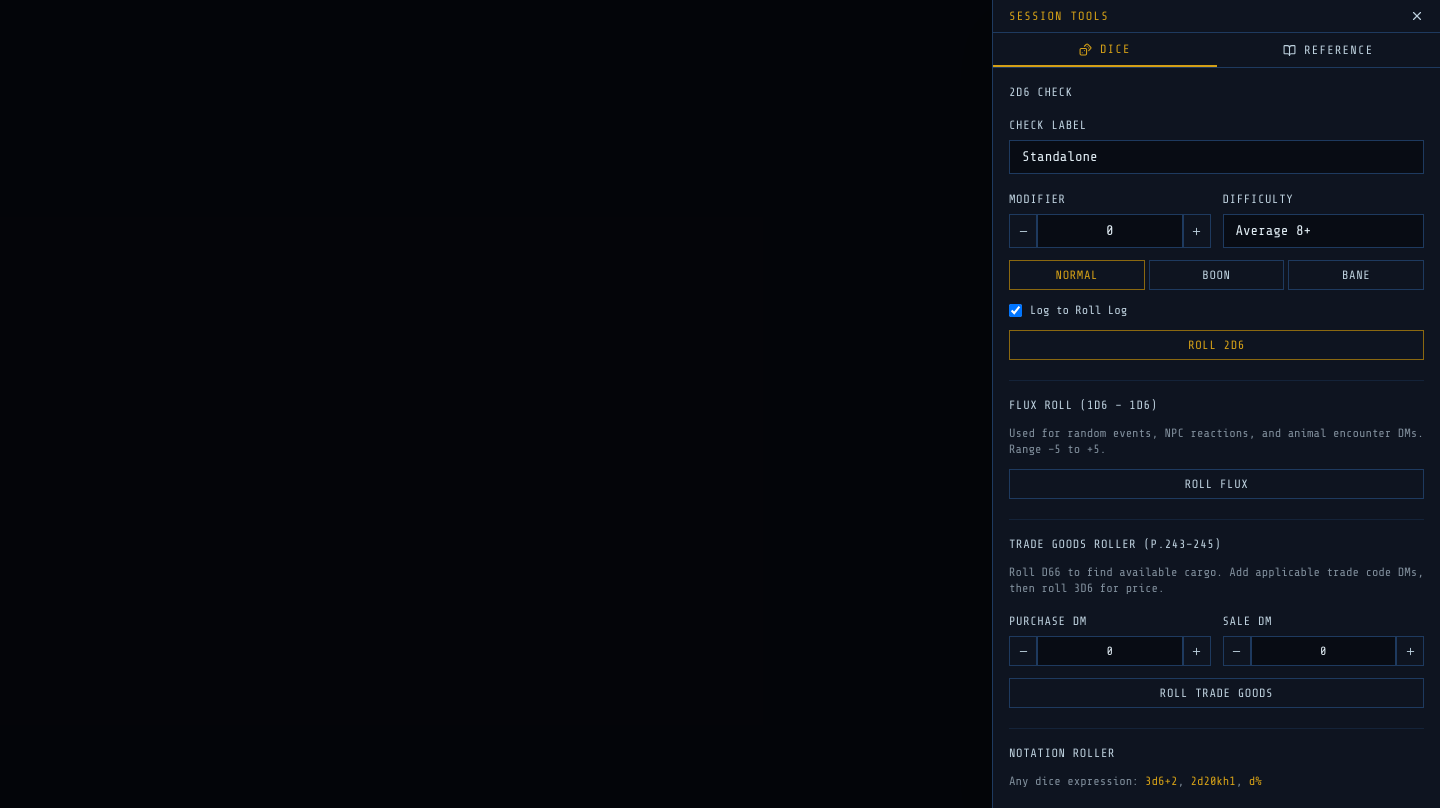
Test: GlobalToolsDrawer › adjusts the standalone check modifier with mouse controls
The image size is (1440, 808).
Expected: the text "MODIFIER" is shown, [1009,192,1066,206]
Expected: the element named "Standalone Modifier" below "MODIFIER" is shown, [1009,214,1210,248]
Click the button named "Increase value" below "MODIFIER" at (1196, 231), box [1182,214,1210,248]
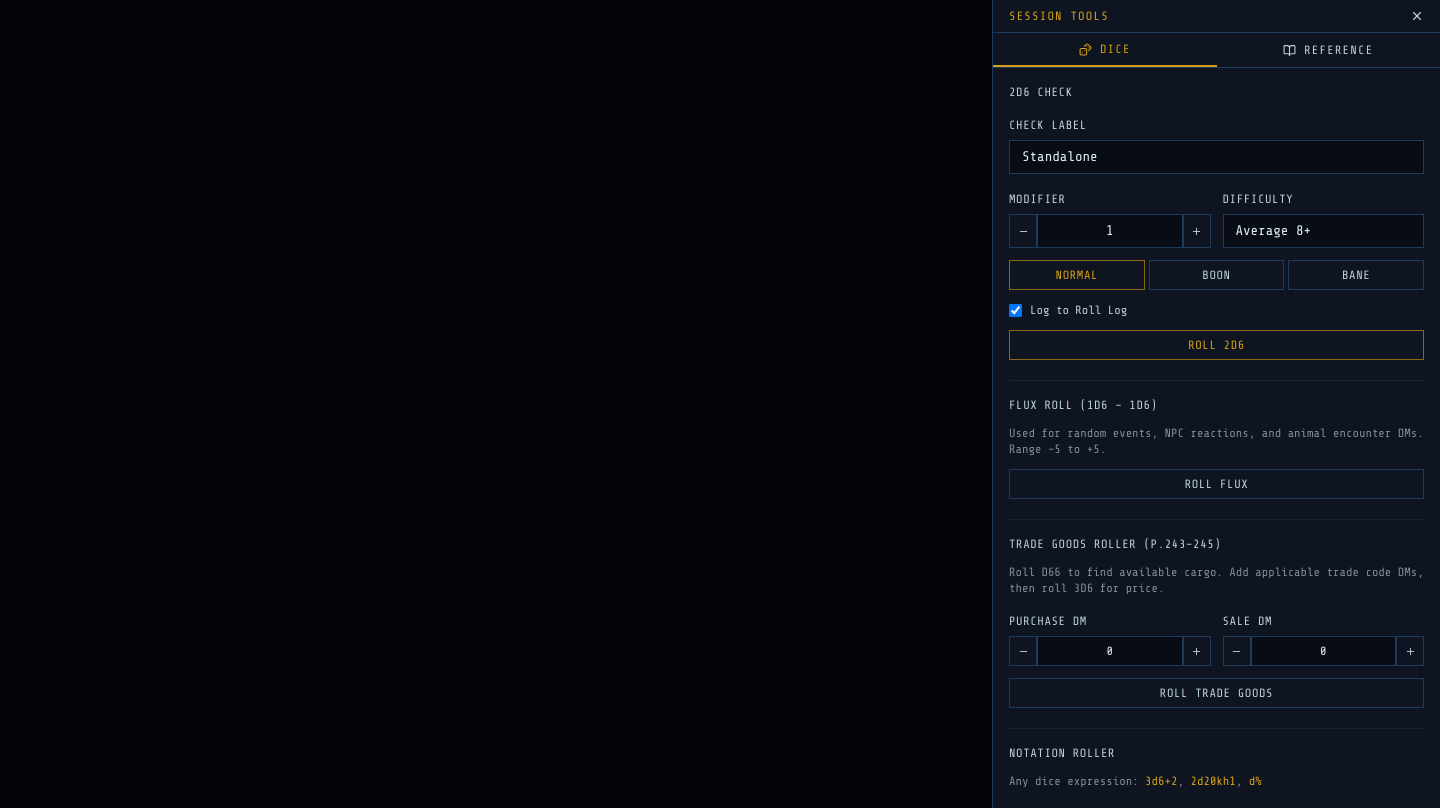
Now the field named "Standalone Modifier" holds "1", box [1037,214,1182,248]
Click the button named "Decrease value" below "MODIFIER" at (1023, 231), box [1009,214,1037,248]
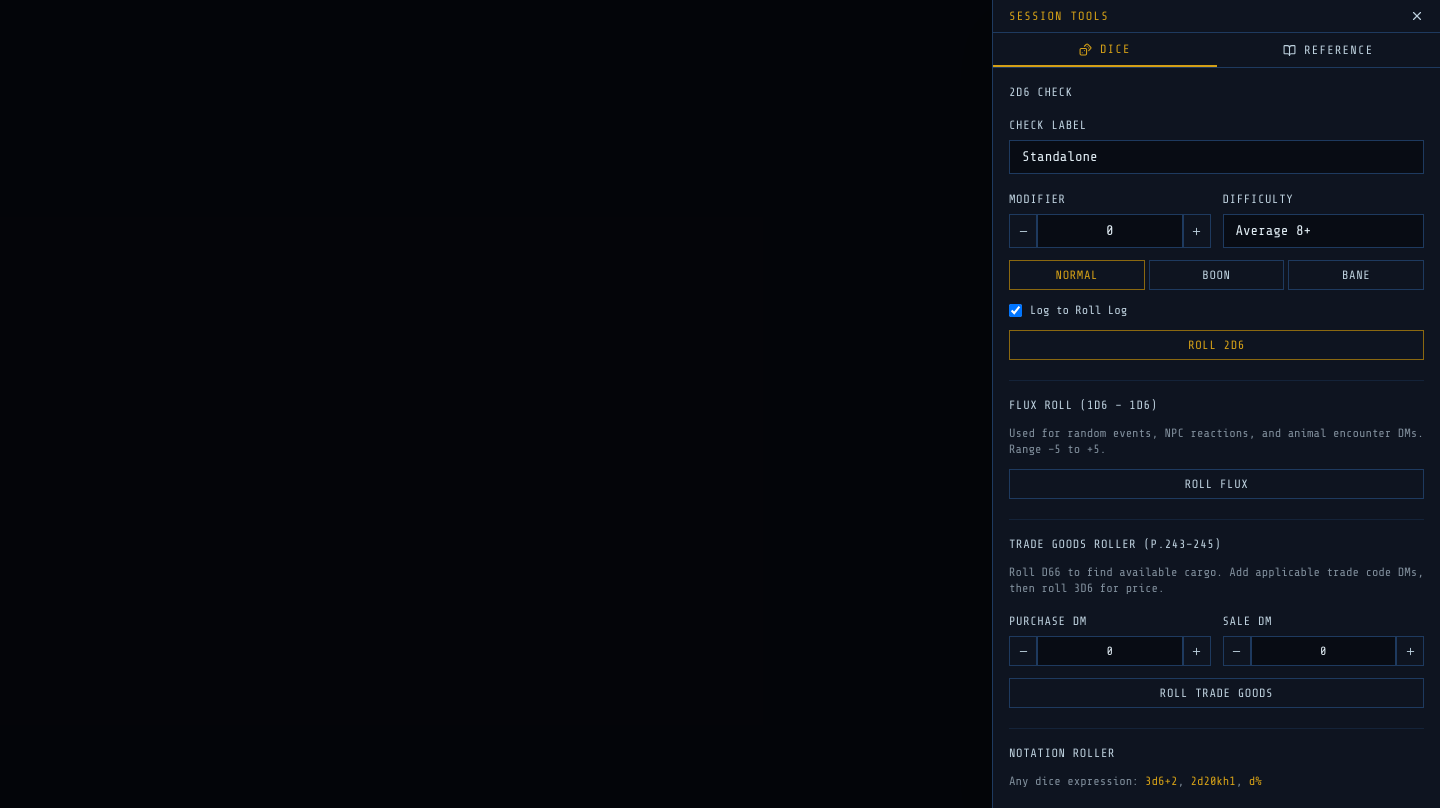
Now the field named "Standalone Modifier" holds "0"
Clear the field named "Standalone Modifier" at (1110, 231), box [1037,214,1182,248]
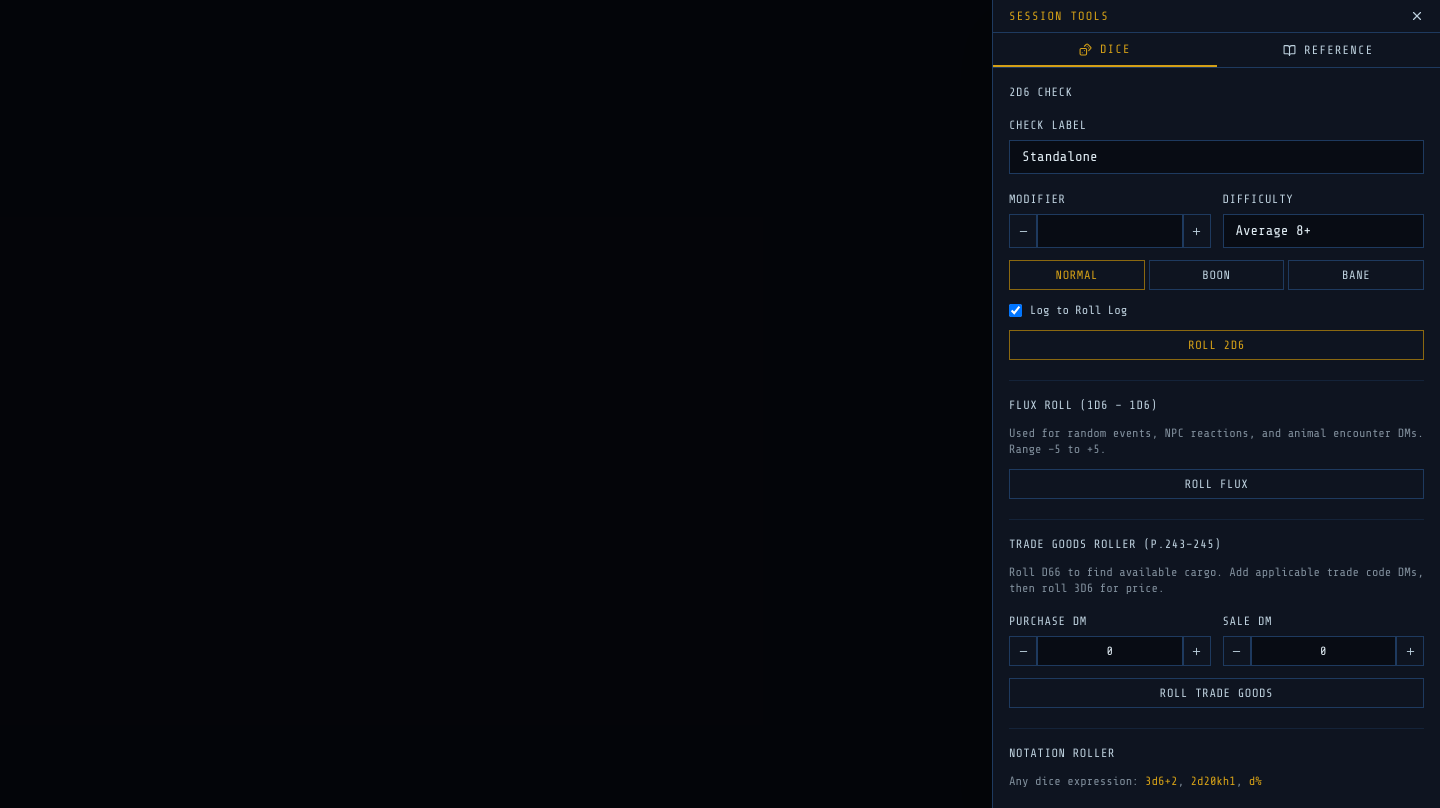
Click the button named "Decrease value" below "MODIFIER" at (1023, 231), box [1009,214,1037,248]
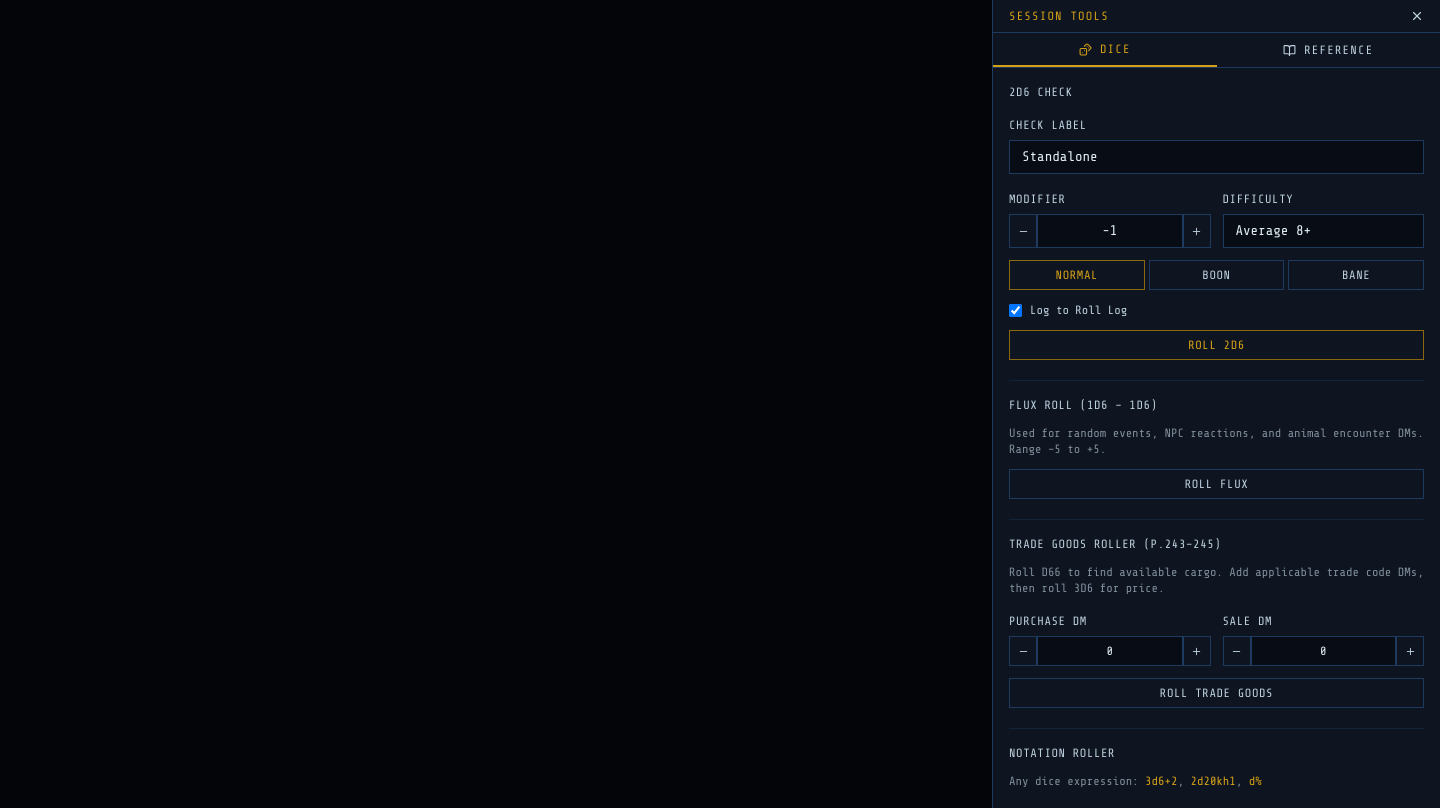
Now the field named "Standalone Modifier" holds "-1", box [1037,214,1182,248]
